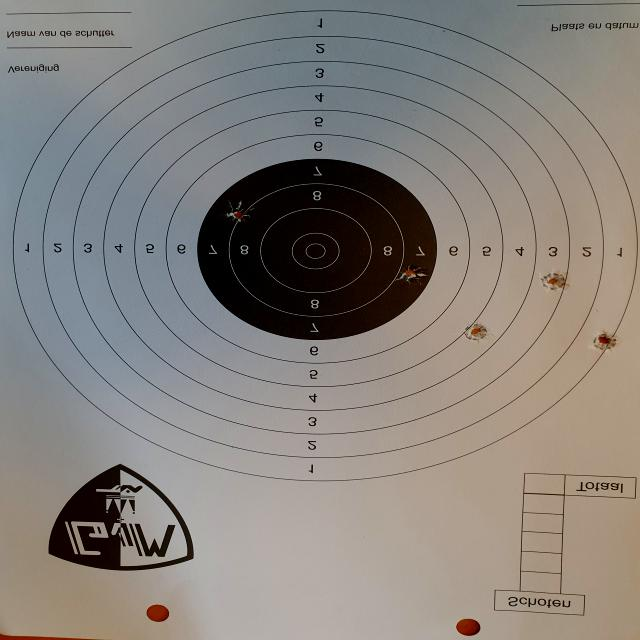1: (589, 331, 619, 352)
3: (536, 271, 573, 292)
5: (458, 322, 493, 344)
7: (393, 262, 429, 286)
8: (222, 200, 256, 222)
Target: (13, 10, 632, 480)
black_contour: (196, 158, 438, 342)
